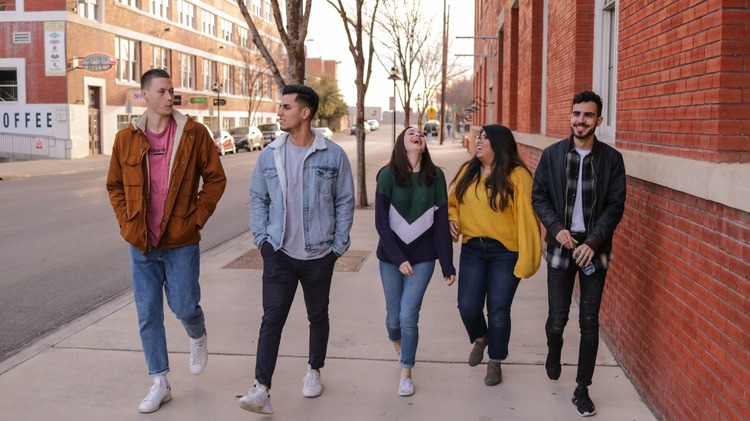without_mask: (277, 93, 312, 131), (571, 99, 595, 137), (147, 79, 173, 114), (475, 128, 500, 158), (404, 130, 426, 153)
